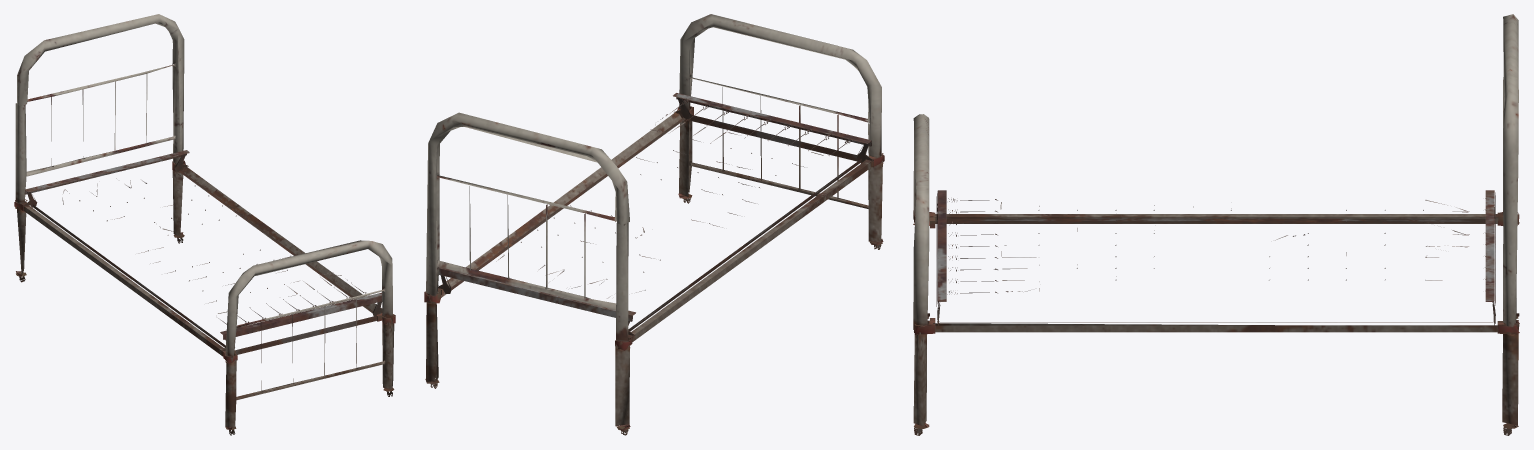
The model's file is Bed_Metal.fbx.
3 renders of one model, left to right at view 1: azimuth 30°, elevation 25°; view 2: azimuth 150°, elevation 25°; view 3: azimuth 270°, elevation 25°, orthographic. The views are drawn at different scales.
Parts seen in each view (by area): view 1: УЕБАНСКАЯ КРОВАТЬ; view 2: УЕБАНСКАЯ КРОВАТЬ; view 3: УЕБАНСКАЯ КРОВАТЬ.
Boxes of the visible parts, x1,y1,x2,y2 form: УЕБАНСКАЯ КРОВАТЬ: (14, 14, 395, 435); УЕБАНСКАЯ КРОВАТЬ: (424, 14, 884, 435); УЕБАНСКАЯ КРОВАТЬ: (913, 14, 1519, 435).
Bounding box in the file's own units: 0.9116 × 1.2 × 2.
1 material, 1 textured.
